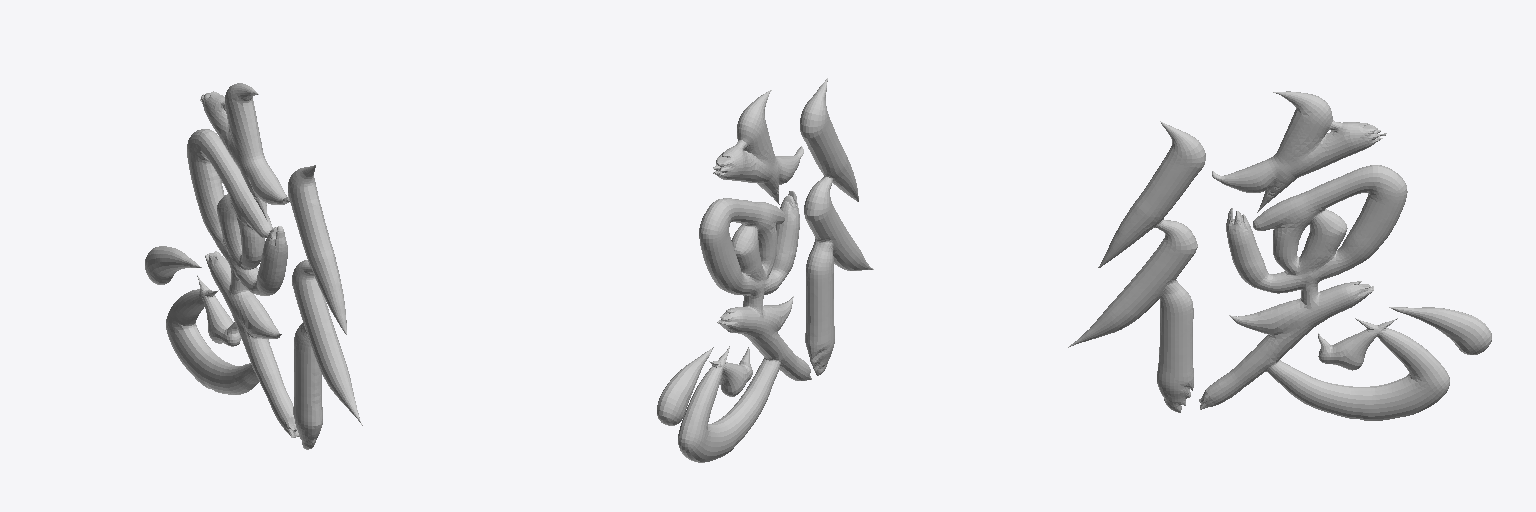
The picture shows the model from 3 angles: view 1: azimuth 30°, elevation 25°; view 2: azimuth 150°, elevation 25°; view 3: azimuth 270°, elevation 25°; orthographic projection.
Parts seen in each view (by area): view 1: tripo_node_c0817fd2-[number redacted]-cf2de52b1a53; view 2: tripo_node_c0817fd2-[number redacted]-cf2de52b1a53; view 3: tripo_node_c0817fd2-[number redacted]-cf2de52b1a53.
Boxes of the visible parts, x1=… form: tripo_node_c0817fd2-[number redacted]-cf2de52b1a53: x1=145, y1=83, x2=362, y2=449; tripo_node_c0817fd2-[number redacted]-cf2de52b1a53: x1=657, y1=78, x2=873, y2=462; tripo_node_c0817fd2-[number redacted]-cf2de52b1a53: x1=1068, y1=91, x2=1491, y2=420.
Size of the model in its own units: 0.0621 by 0.8504 by 0.997.